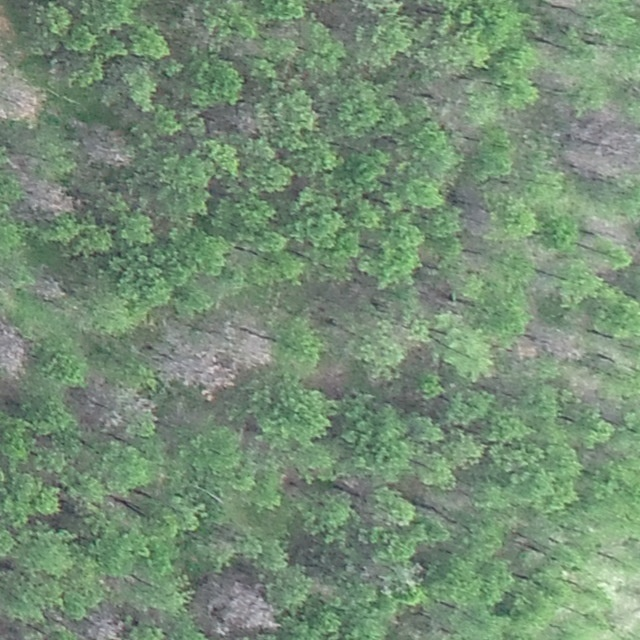unhealthy: (561, 100, 639, 183), (196, 570, 279, 638), (153, 338, 243, 398), (66, 376, 142, 435), (77, 123, 135, 168), (225, 326, 274, 370), (21, 178, 74, 217), (0, 77, 43, 122), (0, 316, 30, 379), (582, 213, 633, 243), (540, 328, 584, 360), (310, 362, 350, 397), (84, 608, 127, 639), (566, 370, 601, 404), (31, 274, 66, 301), (229, 111, 259, 137), (511, 335, 541, 361)
